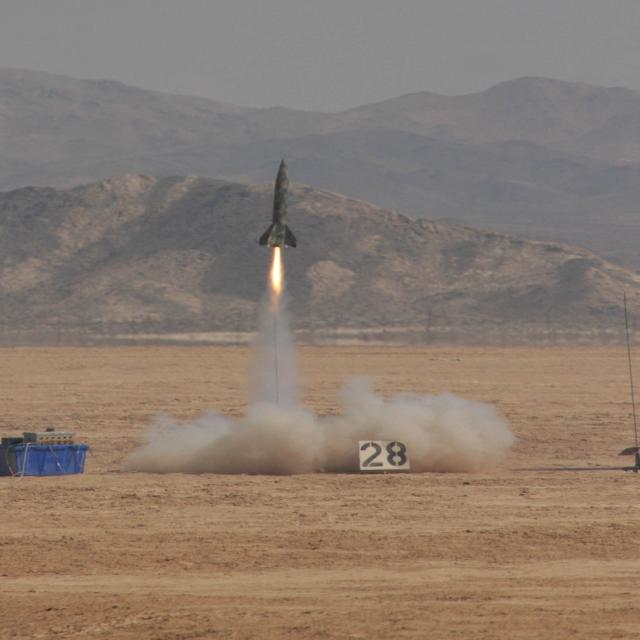Rocket: (258, 157, 298, 250)
